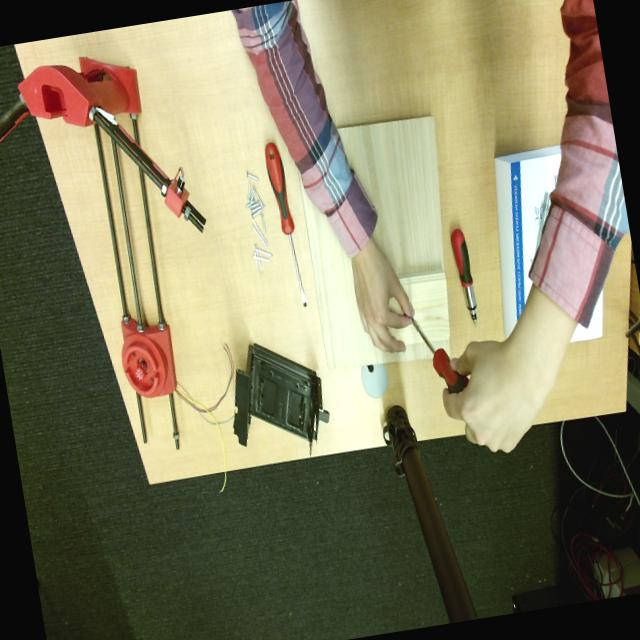screwdriver: (265, 143, 307, 306), (411, 317, 468, 393), (451, 228, 477, 326)
